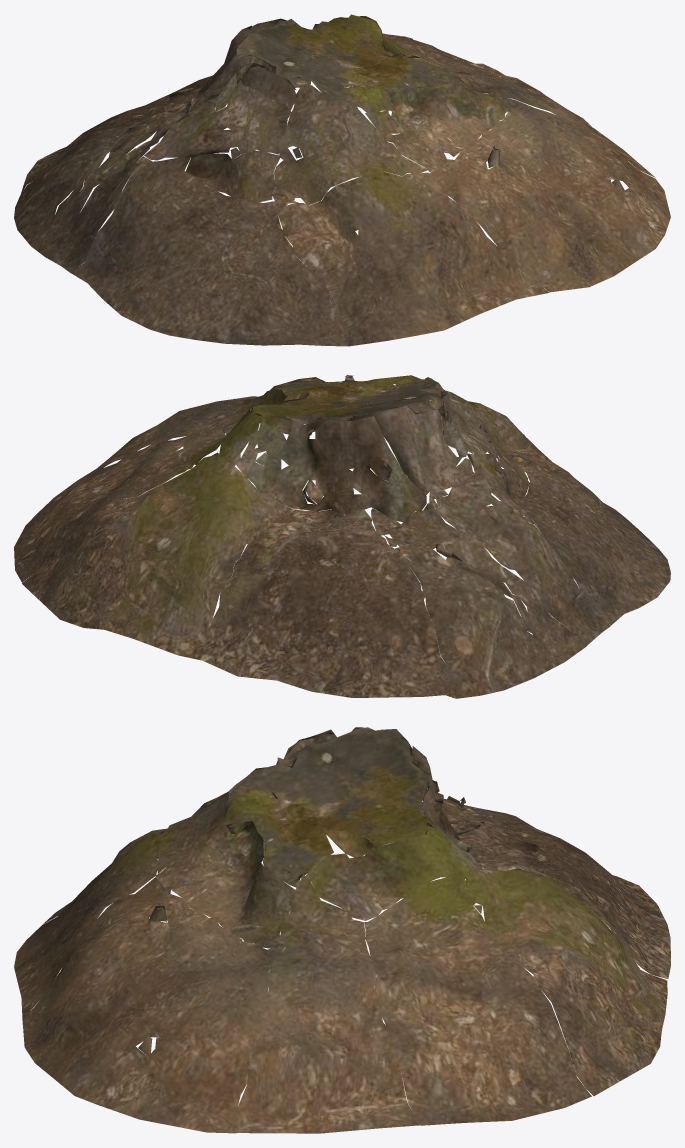
Rendered from stump_b.glb.
3 renders of one model, top to bottom at view 1: azimuth 30°, elevation 25°; view 2: azimuth 150°, elevation 25°; view 3: azimuth 270°, elevation 25°, orthographic. The views are drawn at different scales.
Visible parts, largest first — view 1: tree_stump_02; view 2: tree_stump_02; view 3: tree_stump_02.
Part boxes in pixels (x1,y1,x2,y2): tree_stump_02: (14, 14, 670, 346); tree_stump_02: (14, 375, 670, 698); tree_stump_02: (14, 727, 670, 1133).
Size of the model in its own units: 1 by 0.342 by 0.9146.
1 material, 1 textured.
